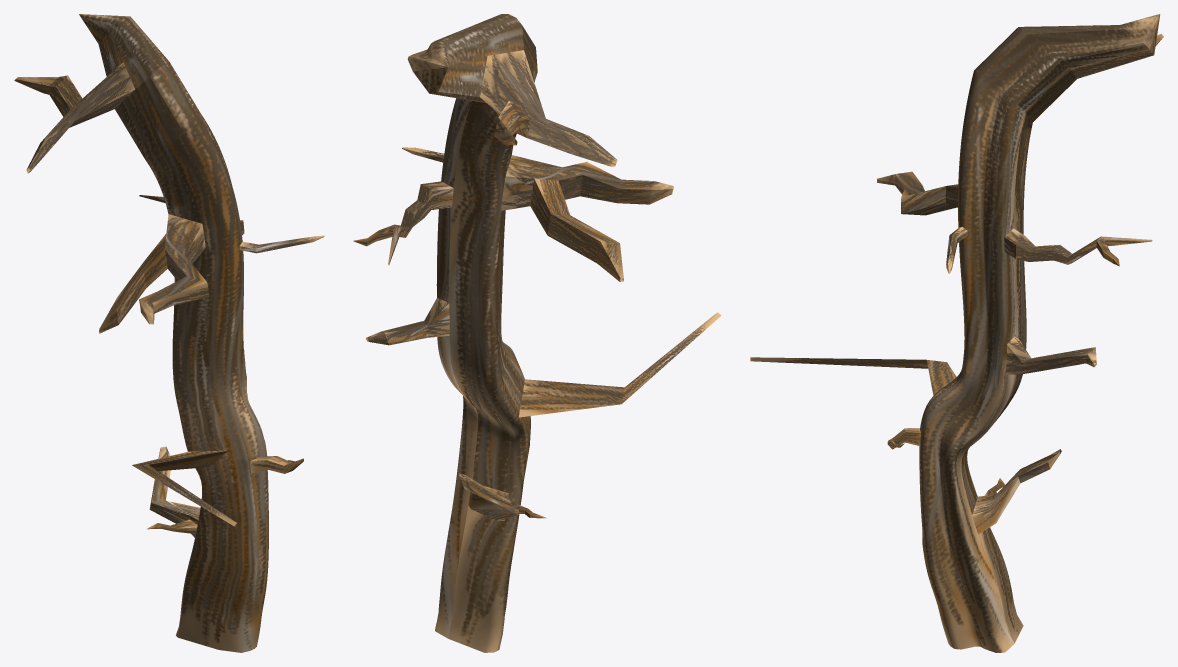
Rendered from tree1.glb.
3 views of the same model, side by side, from view 1: azimuth 30°, elevation 25°; view 2: azimuth 150°, elevation 25°; view 3: azimuth 270°, elevation 25° (orthographic). The views are drawn at different scales.
Visible parts, largest first — view 1: extrudedSurface1; view 2: extrudedSurface1; view 3: extrudedSurface1.
Part boxes in pixels (box(x1,y1,x2,y2)): extrudedSurface1: box(14, 14, 324, 652); extrudedSurface1: box(353, 14, 721, 652); extrudedSurface1: box(750, 14, 1163, 652).
Bounding box in the file's own units: 1342 × 3064 × 1921.
1 material, 1 textured.
